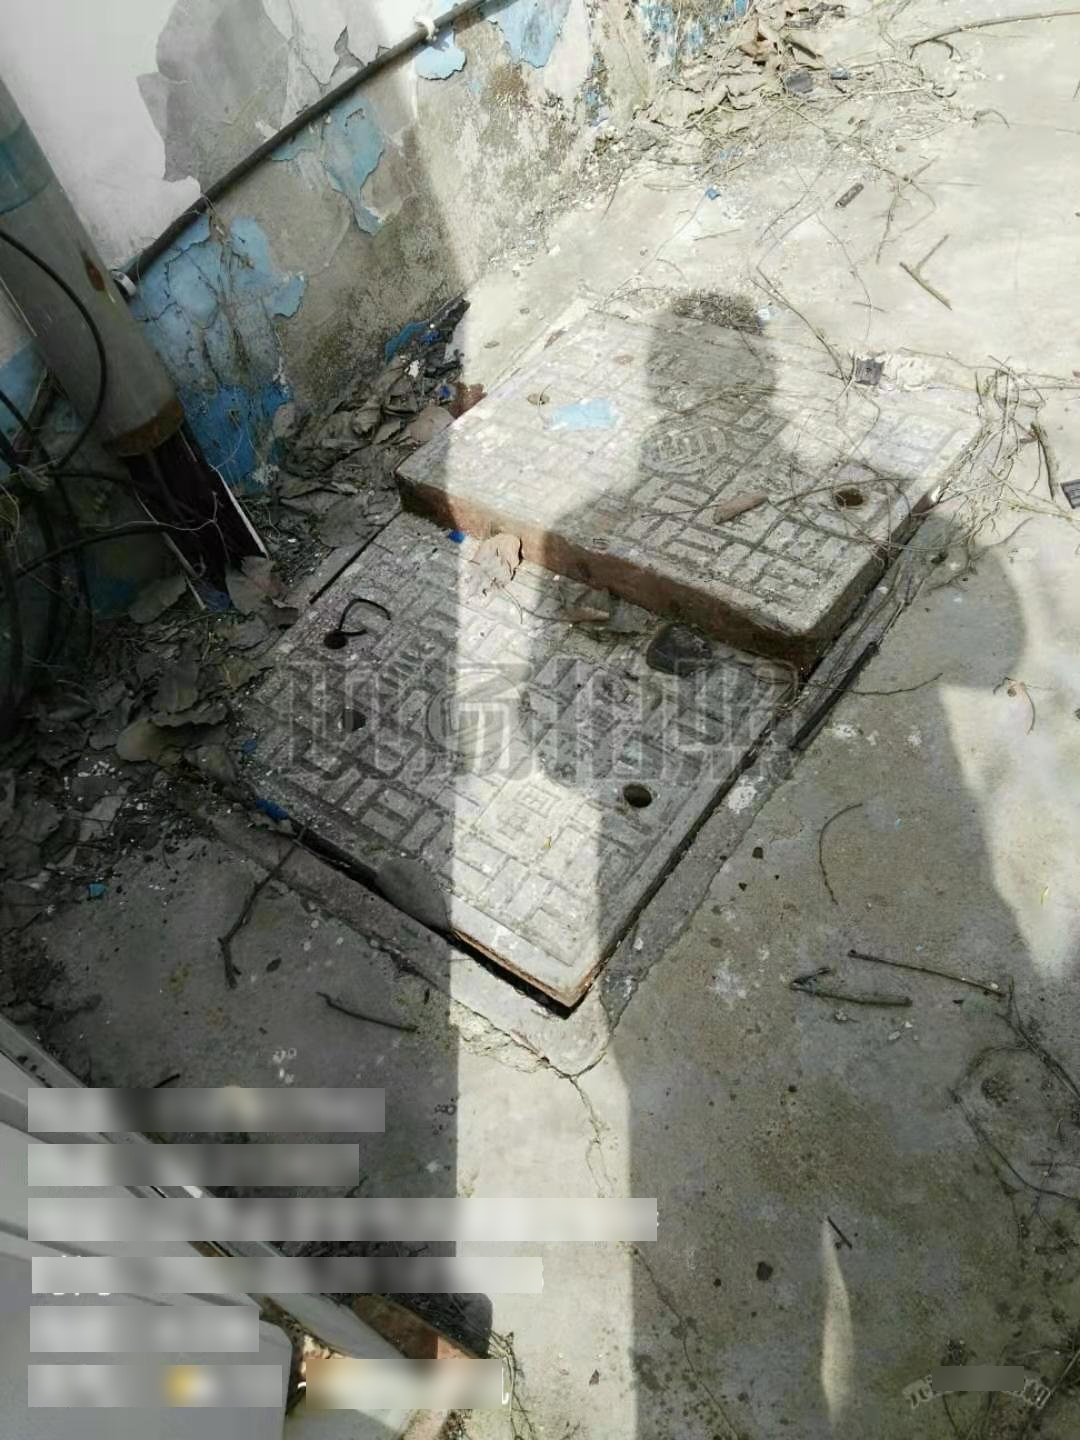uncovered: (169, 291, 981, 1070)
